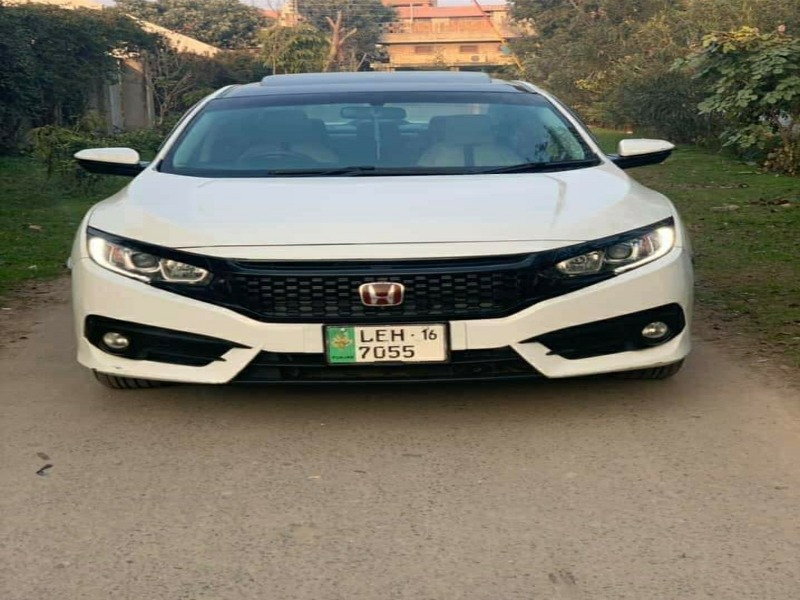License Plate: (321, 322, 453, 364)
